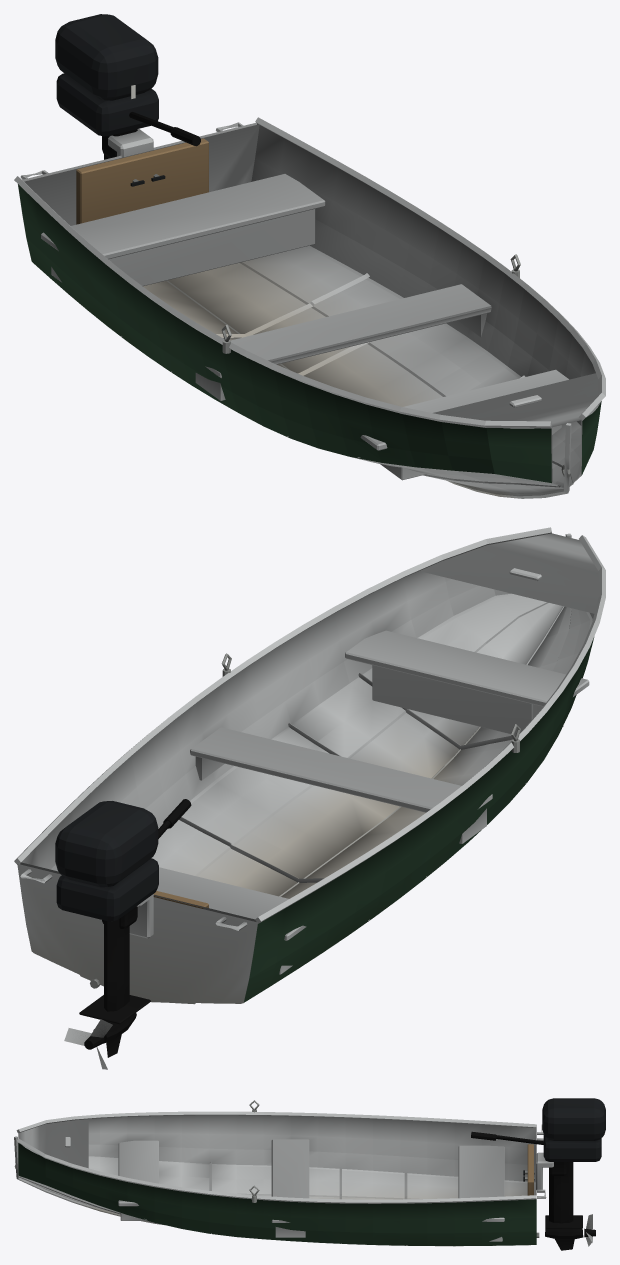
Rendered from boat_aluminium_hull_b.glb.
3 renders of one model, top to bottom at view 1: azimuth 30°, elevation 25°; view 2: azimuth 150°, elevation 25°; view 3: azimuth 270°, elevation 25°, orthographic. The views are drawn at different scales.
Parts seen in each view (by area): view 1: boat_aluminium_hull_b_LOD0, boat_outboard_LOD0; view 2: boat_aluminium_hull_b_LOD0, boat_outboard_LOD0; view 3: boat_aluminium_hull_b_LOD0, boat_outboard_LOD0.
Boxes of the visible parts, bbox=[...] form: boat_aluminium_hull_b_LOD0: bbox=[14, 117, 605, 498]; boat_outboard_LOD0: bbox=[55, 14, 200, 186]; boat_aluminium_hull_b_LOD0: bbox=[14, 527, 605, 1004]; boat_outboard_LOD0: bbox=[55, 799, 191, 1069]; boat_aluminium_hull_b_LOD0: bbox=[14, 1100, 546, 1246]; boat_outboard_LOD0: bbox=[471, 1098, 605, 1250].
Size of what is drawn, in the model's own units: 1.43 by 1.12 by 4.09.
